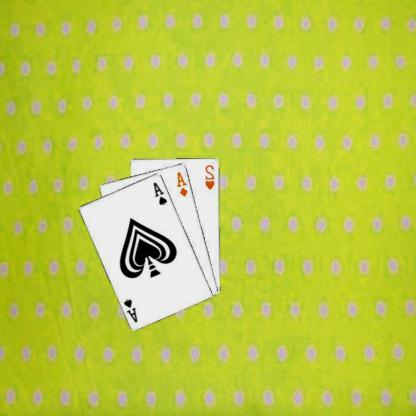2H: (204, 162, 218, 190)
AD: (176, 169, 191, 197)
AS: (123, 296, 141, 324), (152, 179, 170, 206)
